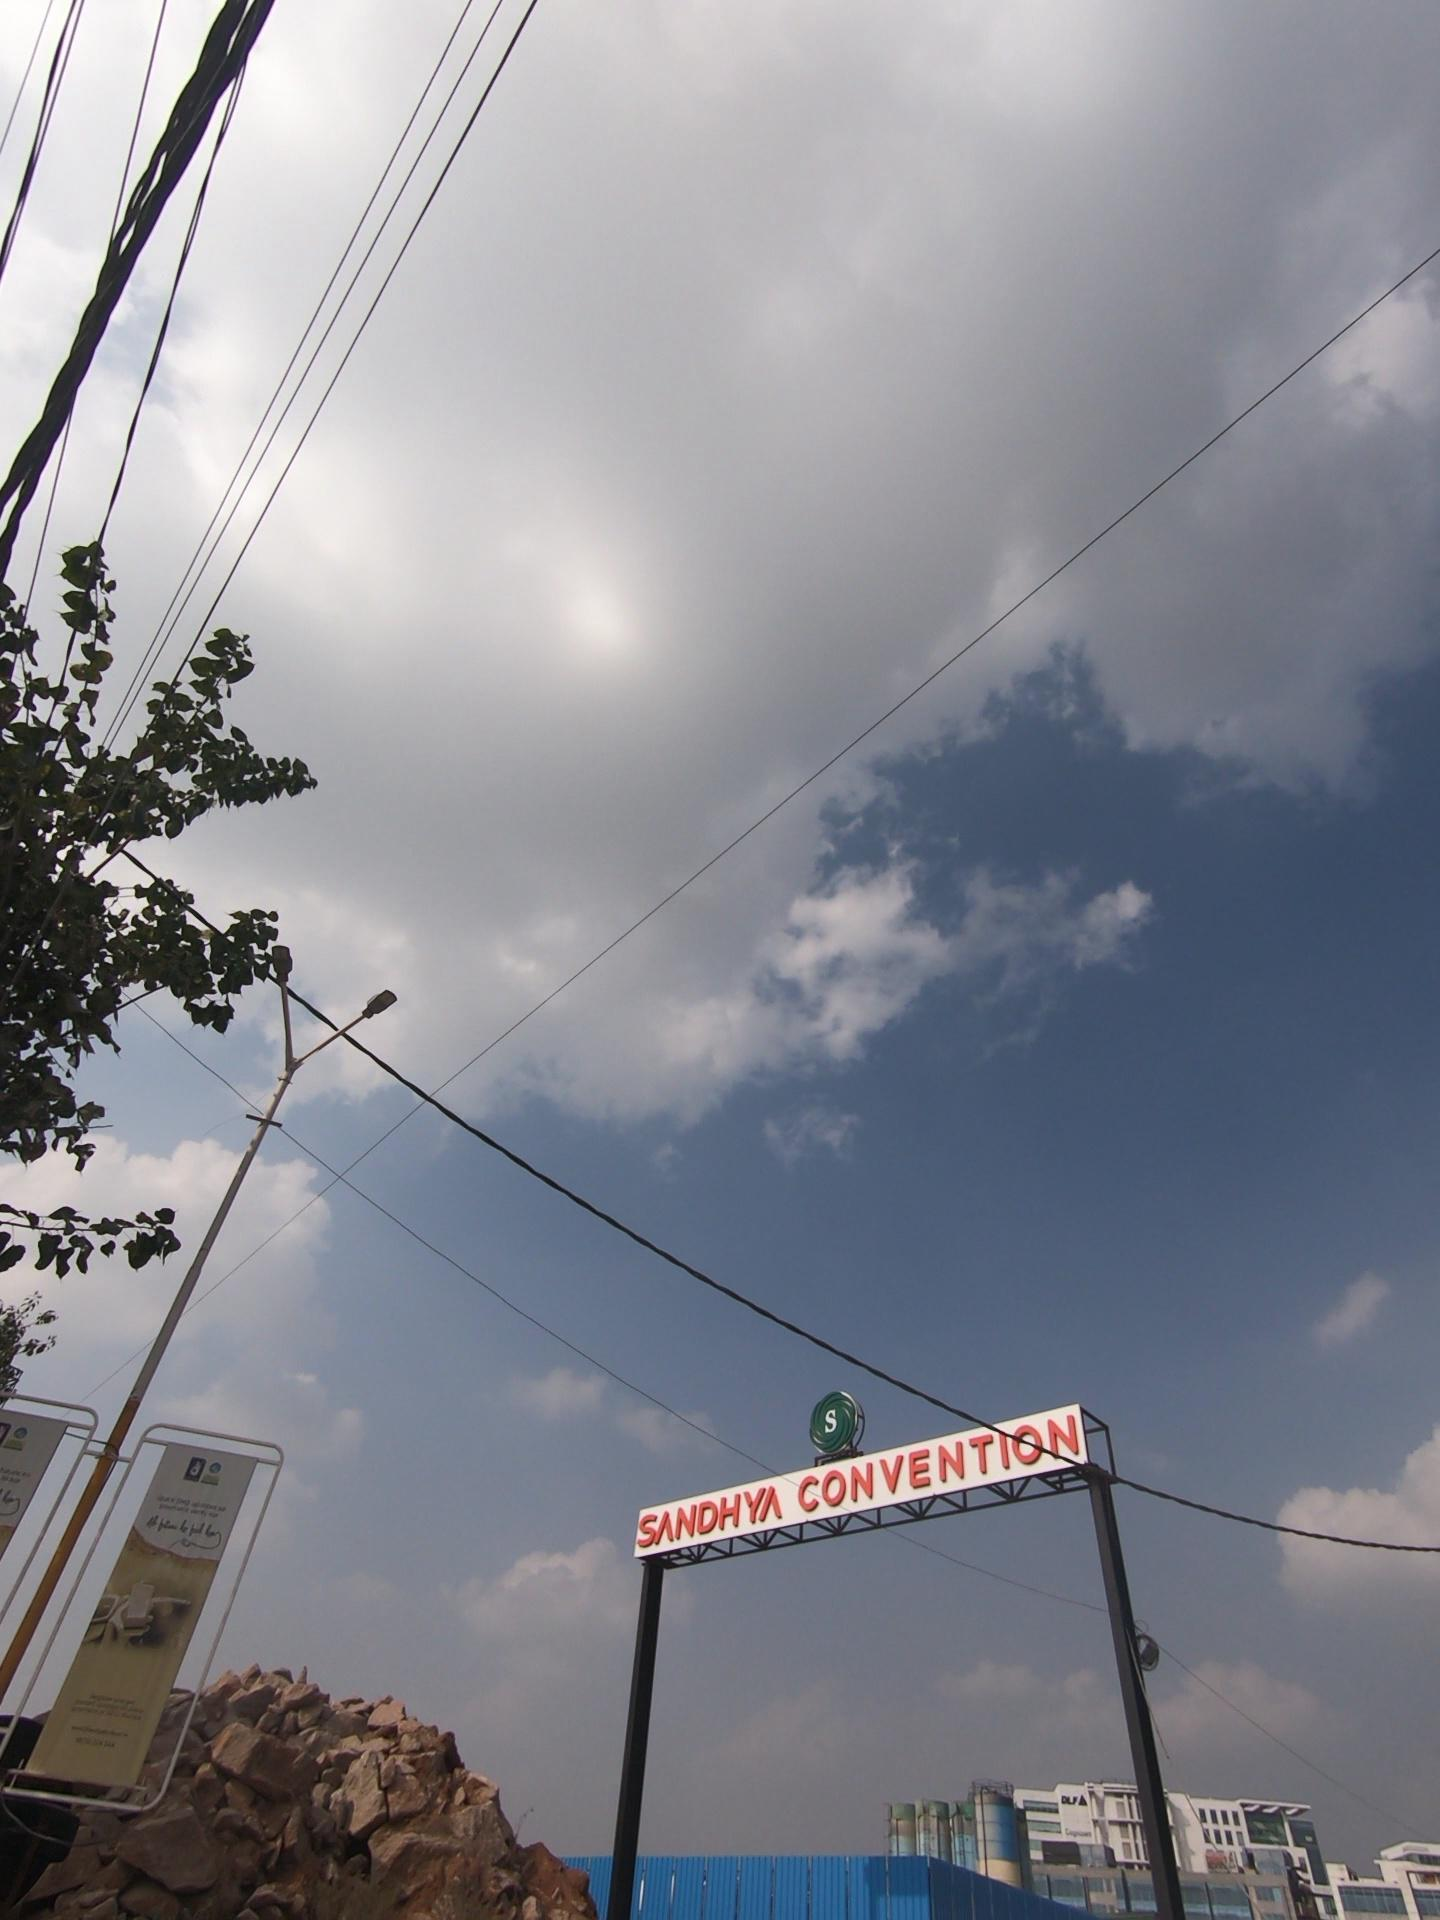off: (250, 875, 508, 1135)
